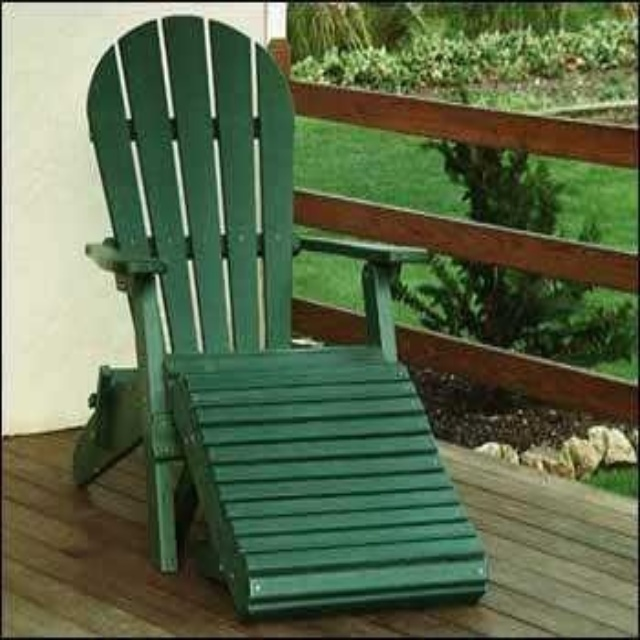obstacle: (88, 16, 485, 614)
